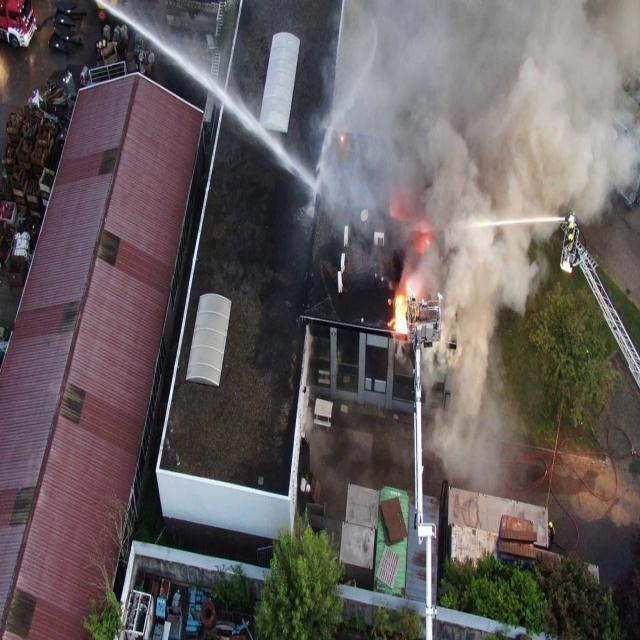Fire: (394, 294, 408, 335), (340, 135, 344, 141)
Smoke: (303, 0, 640, 496)
